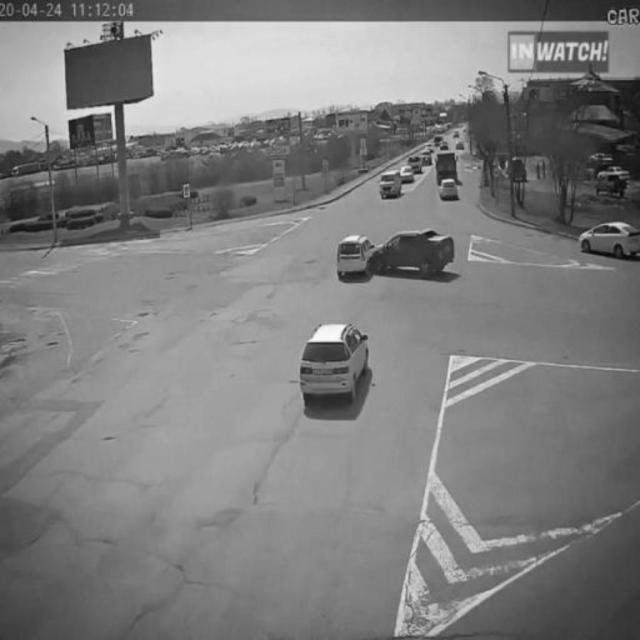accident: (335, 228, 456, 283)
vehicle: (301, 316, 372, 406), (580, 215, 638, 263), (379, 169, 401, 195)
